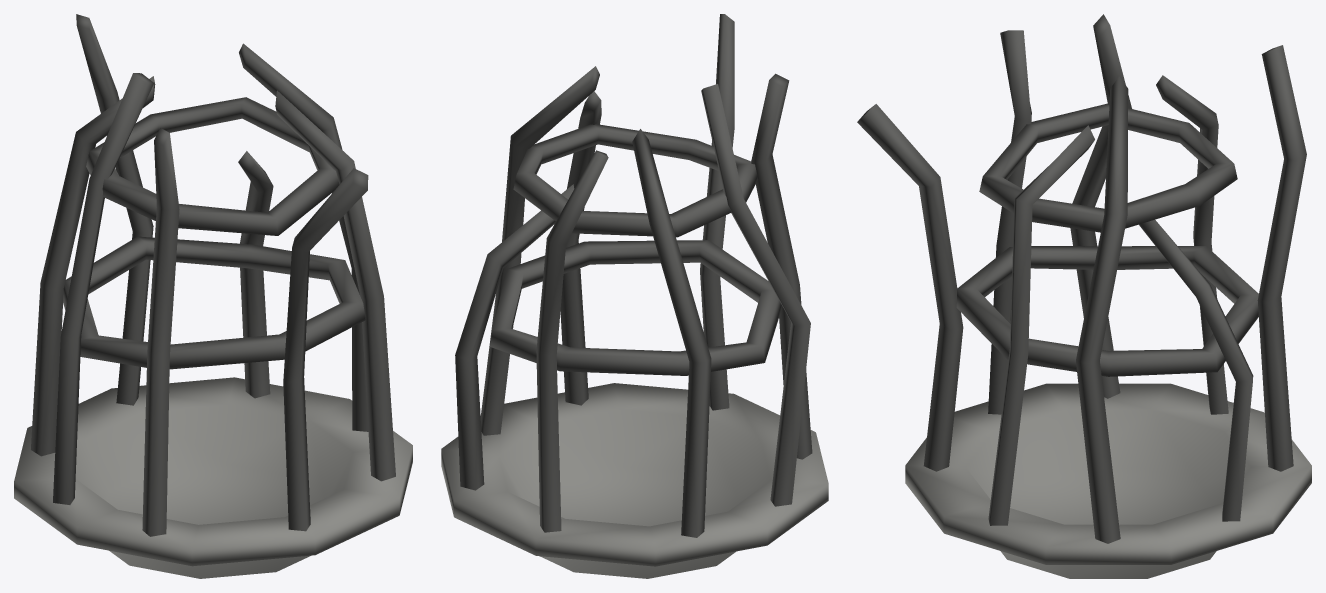
Rendered from rpgpp_av_cage_01.gltf.
The picture shows the model from 3 angles, left to right: view 1: azimuth 30°, elevation 25°; view 2: azimuth 150°, elevation 25°; view 3: azimuth 270°, elevation 25°; orthographic projection. The views are drawn at different scales.
Parts seen in each view (by area): view 1: rpgpp_av_cage_01; view 2: rpgpp_av_cage_01; view 3: rpgpp_av_cage_01.
Boxes of the visible parts, bbox=[...] form: rpgpp_av_cage_01: bbox=[14, 14, 412, 578]; rpgpp_av_cage_01: bbox=[441, 14, 828, 578]; rpgpp_av_cage_01: bbox=[857, 14, 1311, 578].
Bounding box in the file's own units: 0.00395 × 0.00535 × 0.00465.
Materials: 1 (1 with a texture image).
